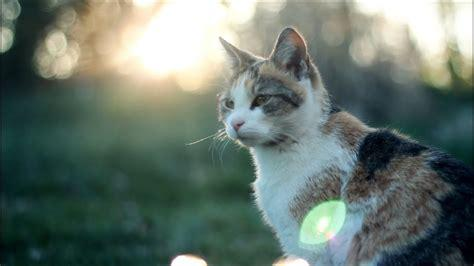cat: (219, 27, 474, 266)
